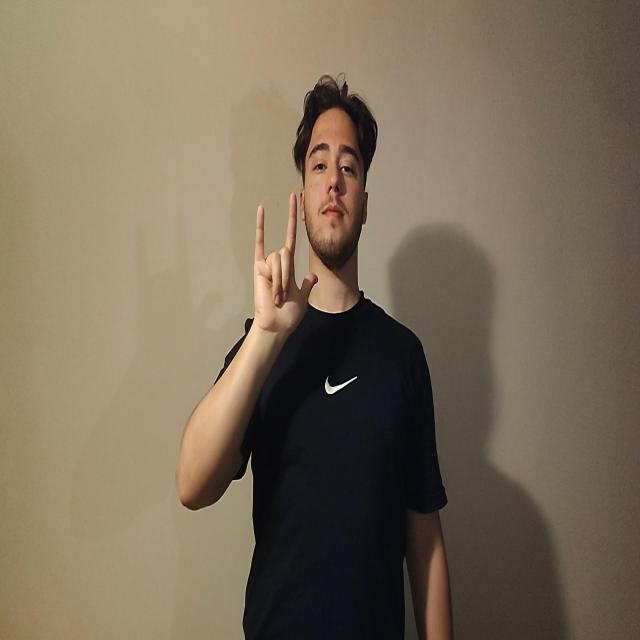iloveyou: (252, 191, 318, 337)
